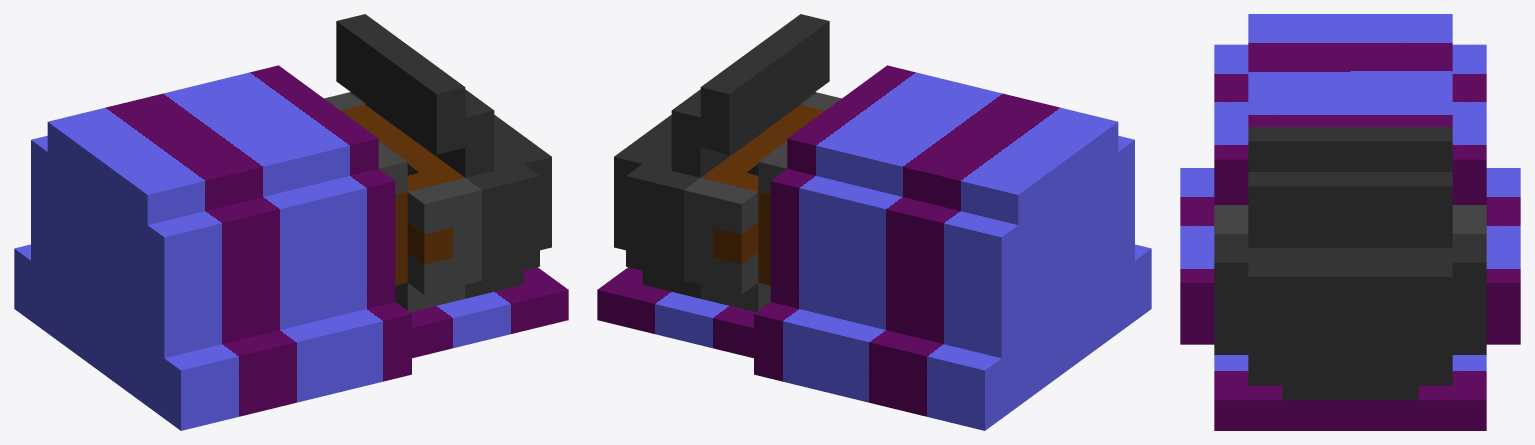
Rendered from chr_bedroll2.fbx.
3 renders of one model, left to right at view 1: azimuth 30°, elevation 25°; view 2: azimuth 150°, elevation 25°; view 3: azimuth 270°, elevation 25°, orthographic.
Visible parts, largest first — view 1: chr_bedroll2; view 2: chr_bedroll2; view 3: chr_bedroll2.
Part boxes in pixels (bbox=[...]): chr_bedroll2: bbox=[14, 14, 568, 430]; chr_bedroll2: bbox=[597, 14, 1151, 430]; chr_bedroll2: bbox=[1180, 14, 1520, 430].
Size of the model in its own units: 1.4 by 1 by 0.8.
Materials: 1 (1 with a texture image).
